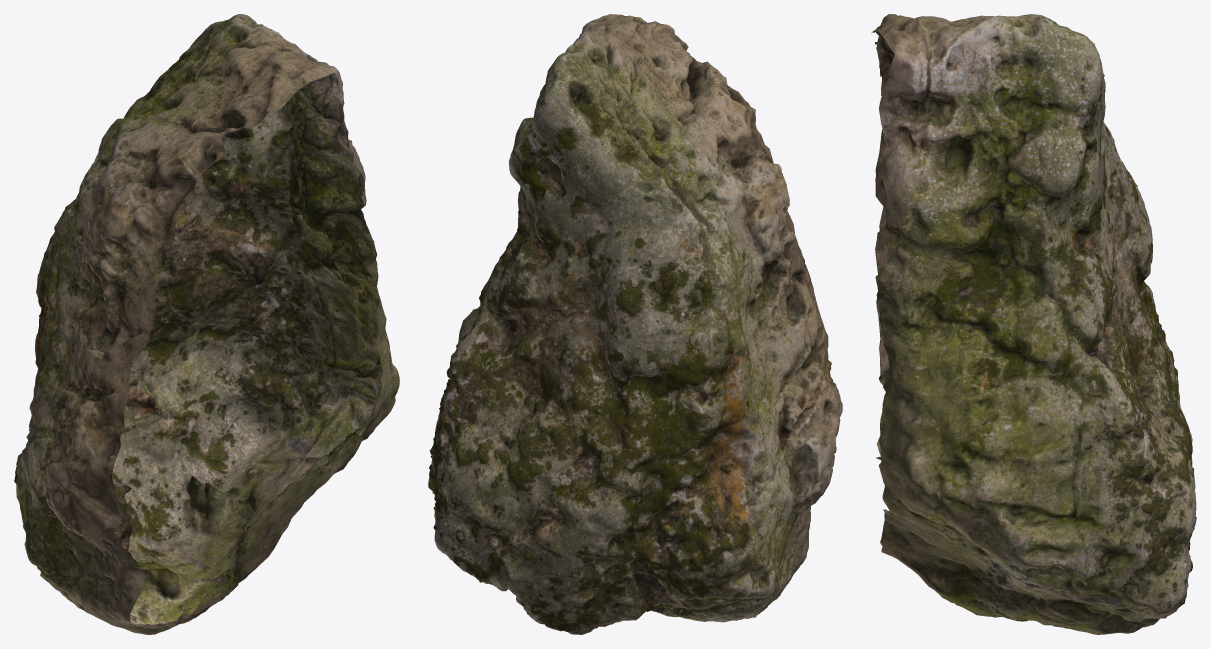
The model's file is rock.fbx.
3 views of the same model, side by side, from view 1: azimuth 30°, elevation 25°; view 2: azimuth 150°, elevation 25°; view 3: azimuth 270°, elevation 25° (orthographic). The views are drawn at different scales.
Parts seen in each view (by area): view 1: RockBoulderLarge049_LOD1.001; view 2: RockBoulderLarge049_LOD1.001; view 3: RockBoulderLarge049_LOD1.001.
Boxes of the visible parts, x1,y1,x2,y2 form: RockBoulderLarge049_LOD1.001: (14,14,399,634); RockBoulderLarge049_LOD1.001: (428,14,842,634); RockBoulderLarge049_LOD1.001: (871,14,1196,634).
Size of the model in its own units: 356 by 545 by 248.
Materials: 1 (1 with a texture image).
